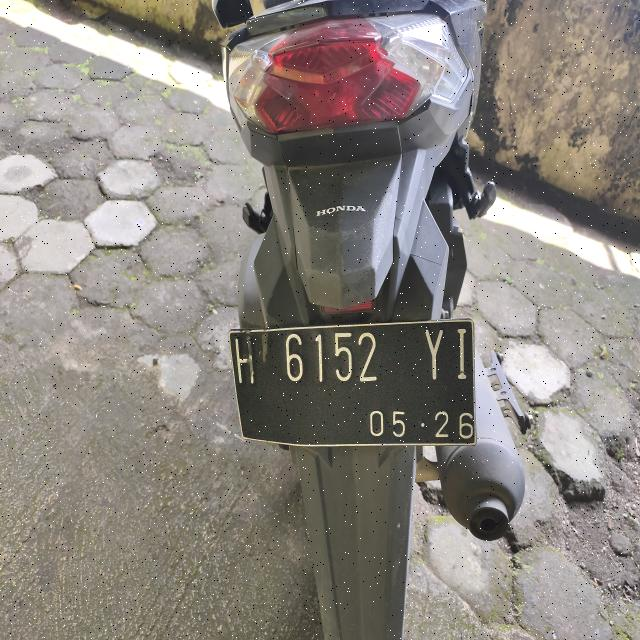plate: (229, 320, 475, 445)
